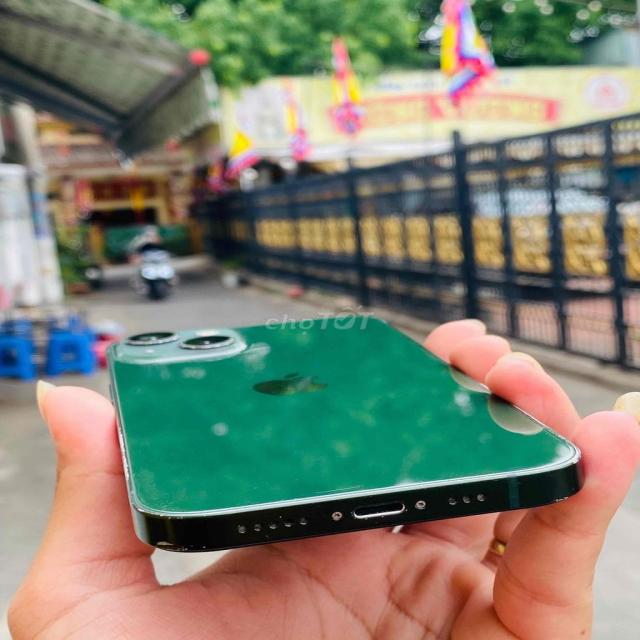gen_12_13: (108, 311, 588, 555)
